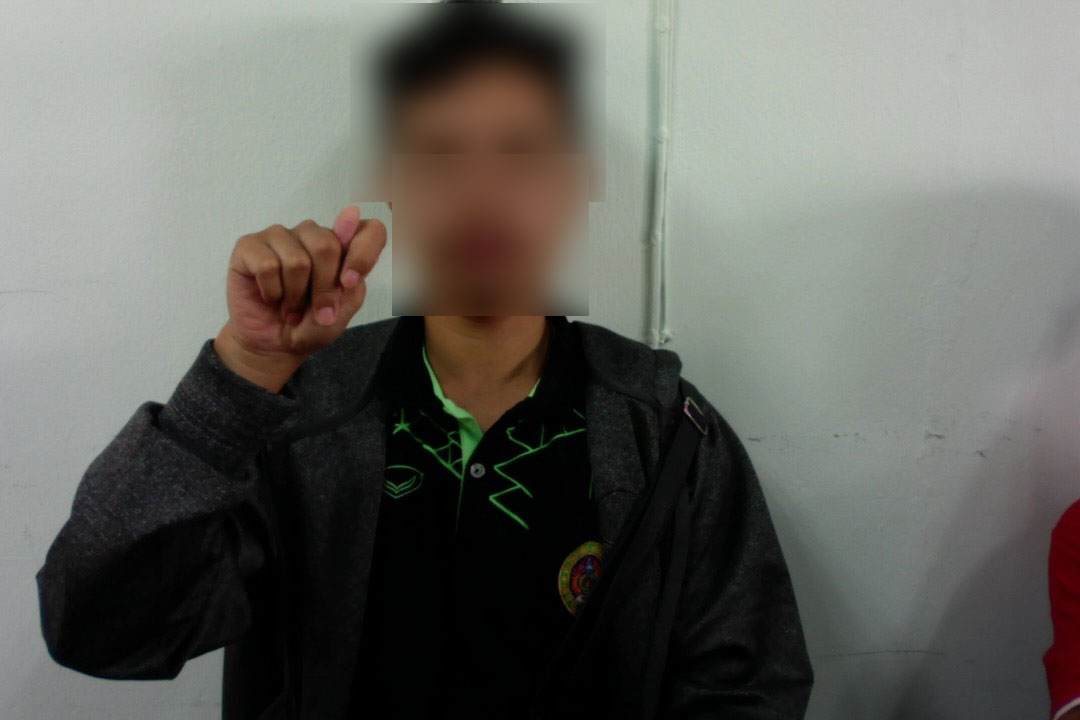tor: (218, 200, 390, 362)
